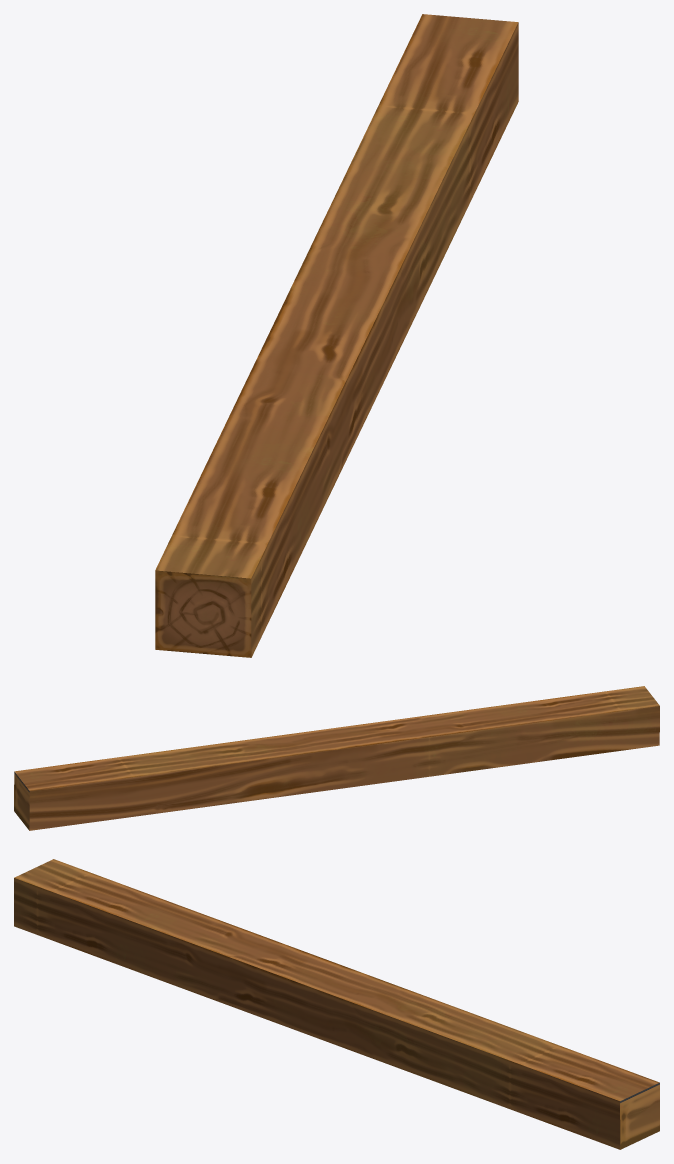
The picture shows the model from 3 angles, top to bottom: view 1: azimuth 30°, elevation 25°; view 2: azimuth 150°, elevation 25°; view 3: azimuth 270°, elevation 25°; orthographic projection. The views are drawn at different scales.
Parts seen in each view (by area): view 1: Cube.1907; view 2: Cube.1907; view 3: Cube.1907.
Boxes of the visible parts, x1,y1,x2,y2 form: Cube.1907: [155, 14, 518, 657]; Cube.1907: [14, 686, 659, 830]; Cube.1907: [14, 859, 659, 1149].
Size of the model in its own units: 526 by 52.36 by 583.
Materials: 1 (1 with a texture image).
